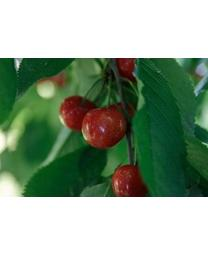cherry: (80, 106, 128, 147), (59, 94, 97, 128), (112, 165, 145, 195)
